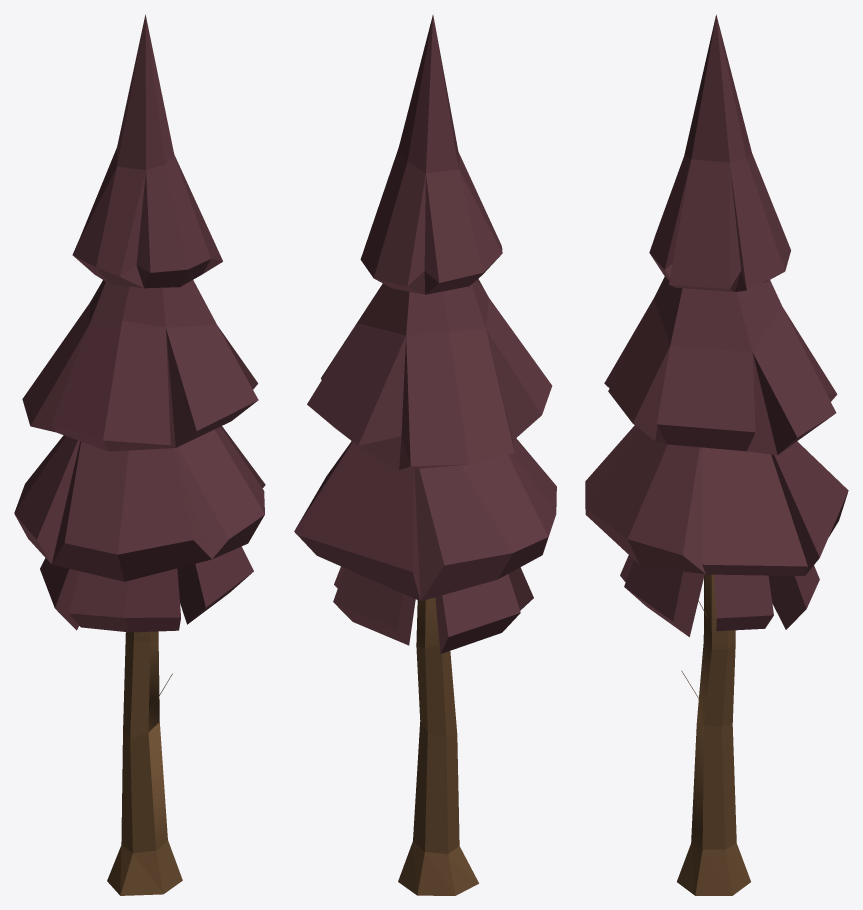
Rendered from treeready.fbx.
3 views of the same model, side by side, from view 1: azimuth 30°, elevation 25°; view 2: azimuth 150°, elevation 25°; view 3: azimuth 270°, elevation 25° (orthographic).
Visible parts, largest first — view 1: tree-forest.001, tree-forest.002, tree-forest.004, tree-forest.003; view 2: tree-forest.001, tree-forest.002, tree-forest.004, tree-forest.003, tree-forest.005; view 3: tree-forest.001, tree-forest.002, tree-forest.003, tree-forest.004, tree-forest.005.
Part boxes in pixels (x1,y1,x2,y2): tree-forest.001: (14,14,265,632); tree-forest.002: (121,722,167,853); tree-forest.004: (123,634,172,738); tree-forest.003: (107,840,182,895); tree-forest.001: (294,14,556,653); tree-forest.002: (413,721,459,854); tree-forest.004: (416,645,457,738); tree-forest.003: (398,841,478,895); tree-forest.005: (416,597,439,648); tree-forest.001: (585,14,848,636); tree-forest.002: (691,723,736,849); tree-forest.003: (677,843,750,895); tree-forest.004: (681,640,735,726); tree-forest.005: (698,574,735,649).
Size of the model in its own units: 241 by 885 by 243.
